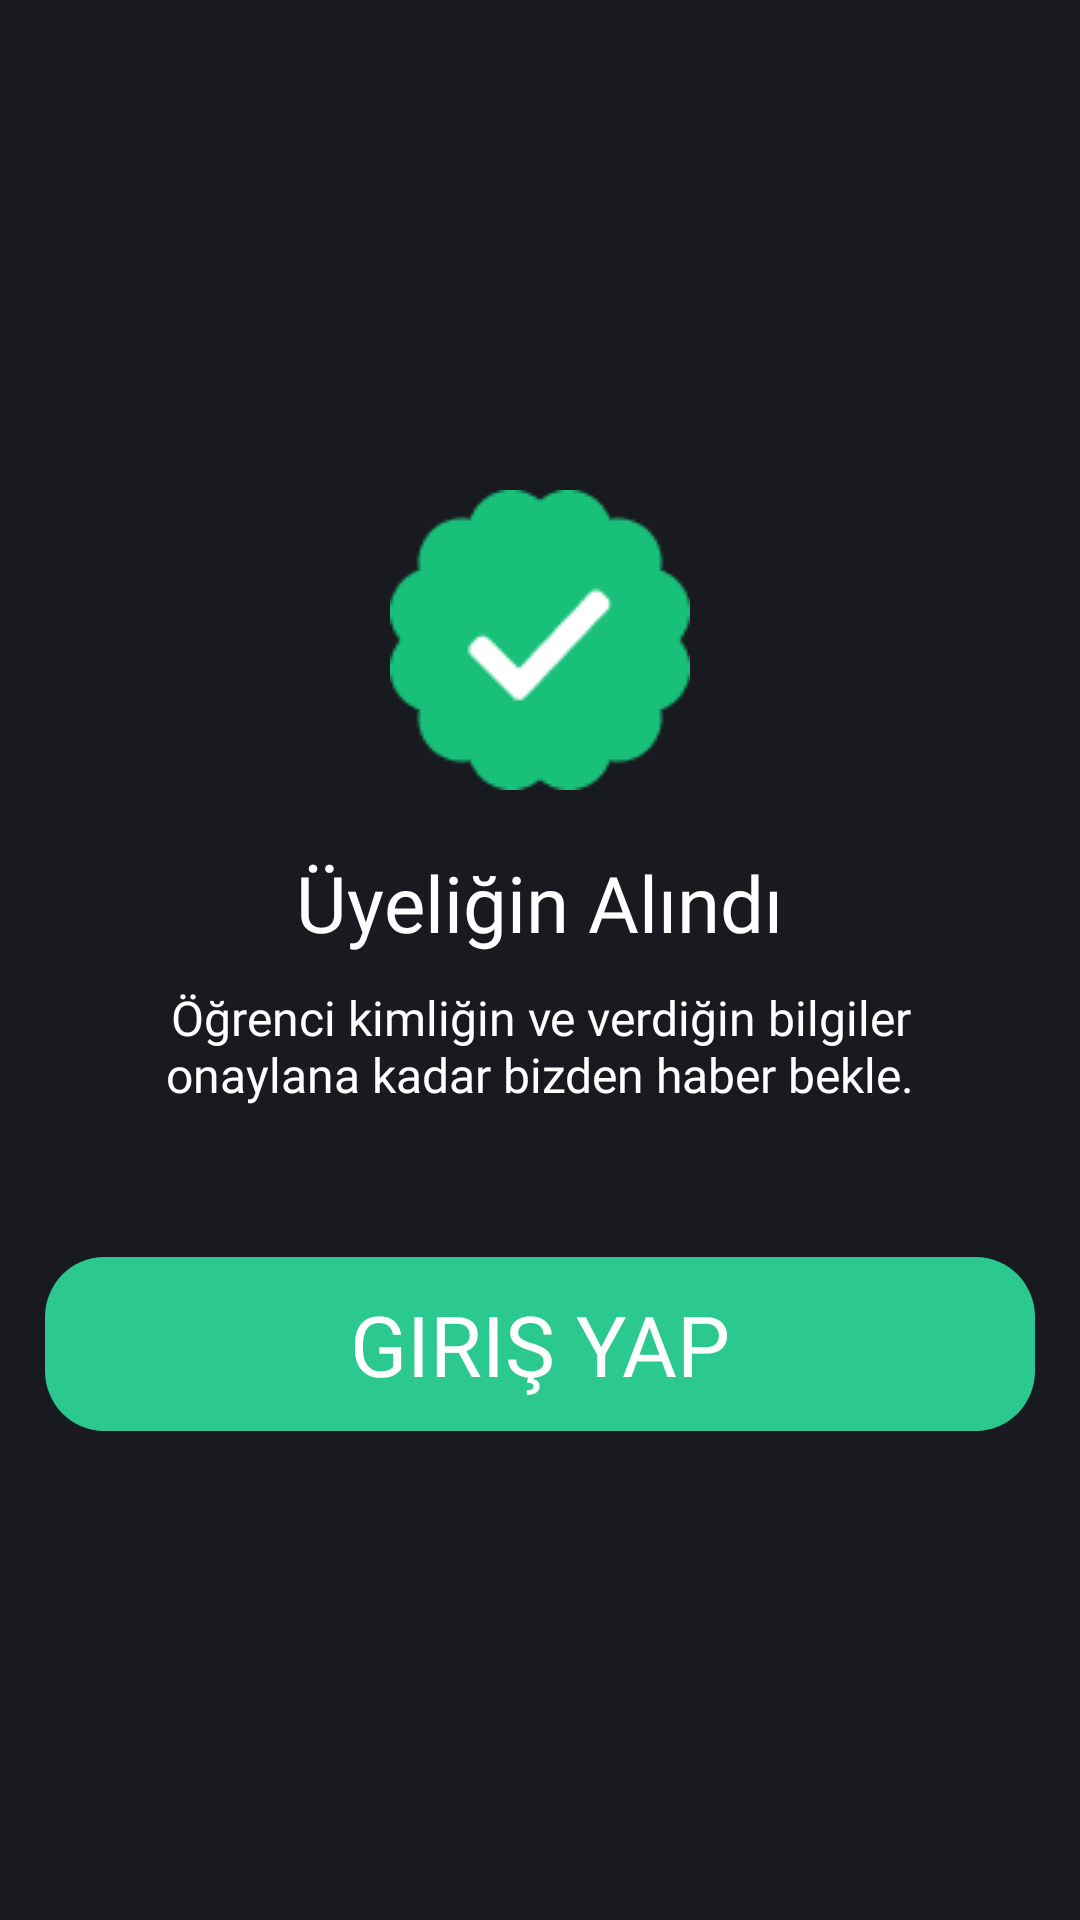

Icons on this 1080*1920 Android screen, each with its box as (x1, y1, x2, y2):
succesmark: (390, 490, 690, 790)
